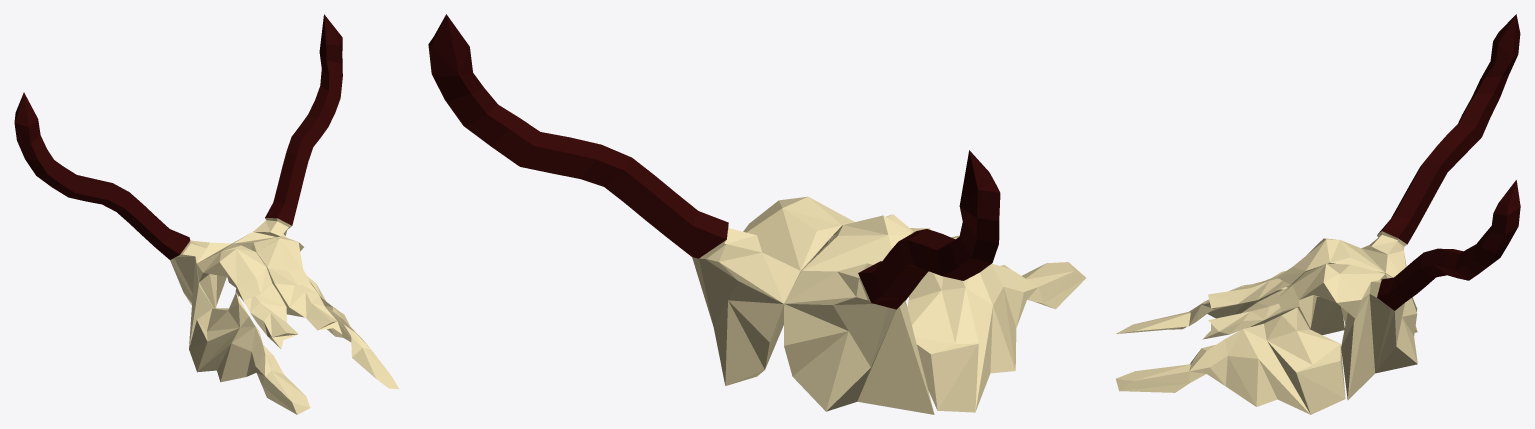
Rendered from cow_skull.fbx.
3 renders of one model, left to right at view 1: azimuth 30°, elevation 25°; view 2: azimuth 150°, elevation 25°; view 3: azimuth 270°, elevation 25°, orthographic. The views are drawn at different scales.
Parts seen in each view (by area): view 1: cow_skull; view 2: cow_skull; view 3: cow_skull.
Boxes of the visible parts, <box> form: cow_skull: <box>14,14,398,414</box>; cow_skull: <box>428,14,1085,414</box>; cow_skull: <box>1116,14,1520,414</box>.
Bounding box in the file's own units: 55.44 × 38.89 × 50.76.
